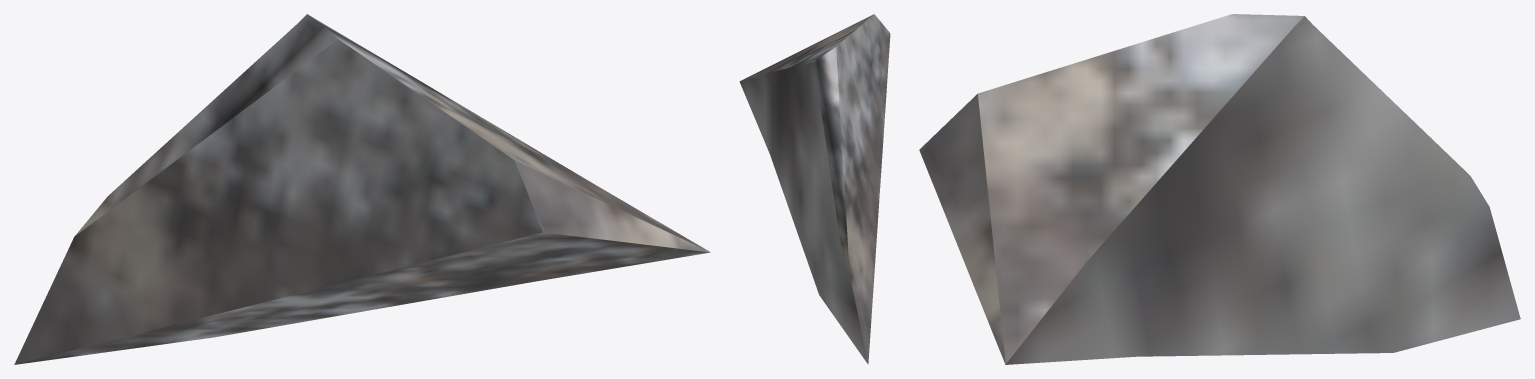
Rendered from Asteroid_Large_001_02_006_03_018.fbx.
The picture shows the model from 3 angles, left to right: view 1: azimuth 30°, elevation 25°; view 2: azimuth 150°, elevation 25°; view 3: azimuth 270°, elevation 25°; orthographic projection. The views are drawn at different scales.
Parts seen in each view (by area): view 1: Asteroid_Large_001_02_006_03_018; view 2: Asteroid_Large_001_02_006_03_018; view 3: Asteroid_Large_001_02_006_03_018.
Part boxes in pixels (x1=…): Asteroid_Large_001_02_006_03_018: x1=14, y1=14, x2=710, y2=364; Asteroid_Large_001_02_006_03_018: x1=739, y1=14, x2=890, y2=364; Asteroid_Large_001_02_006_03_018: x1=919, y1=14, x2=1520, y2=364.
Bounding box in the file's own units: 1.97 × 1.57 × 2.12.
